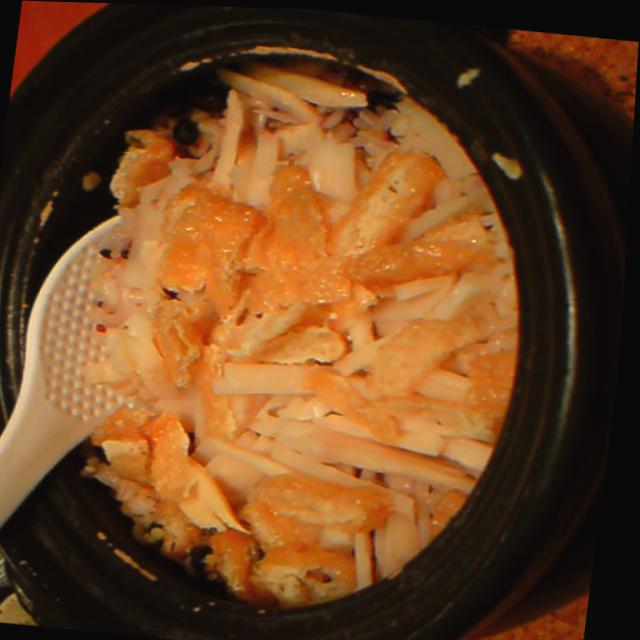米饭主食: (68, 71, 507, 604)
